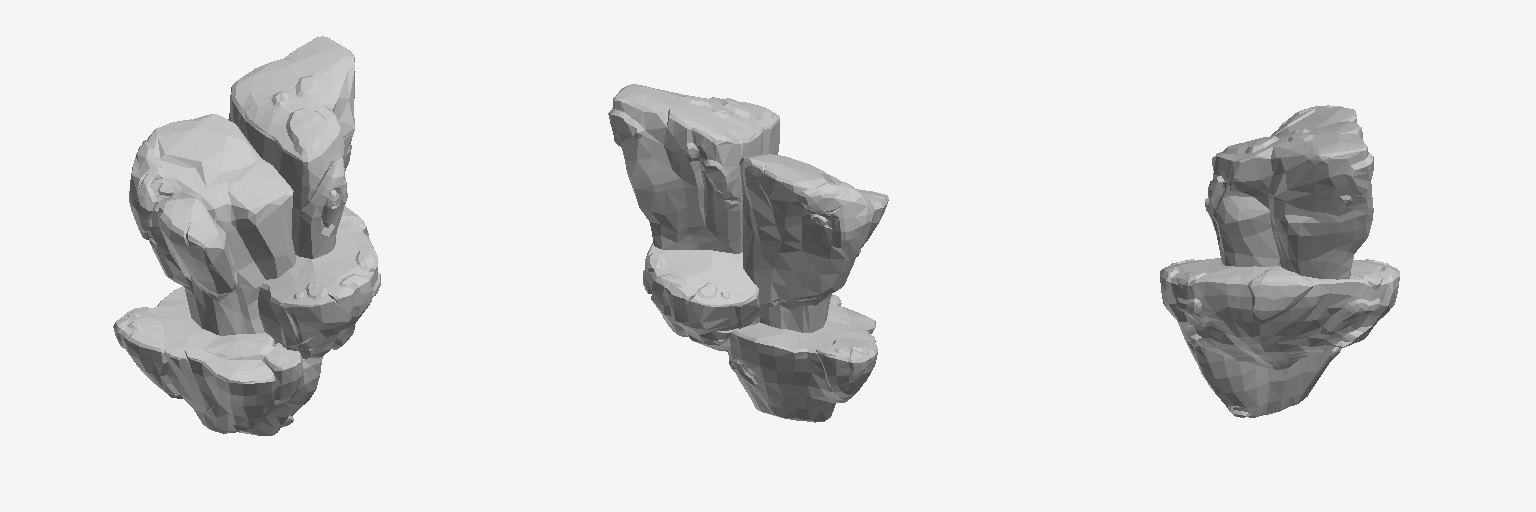
Rendered from Boulder1OBJ.obj.
3 renders of one model, left to right at view 1: azimuth 30°, elevation 25°; view 2: azimuth 150°, elevation 25°; view 3: azimuth 270°, elevation 25°, orthographic.
Parts seen in each view (by area): view 1: node_id244_mesh_id245, node_id246_mesh_id247, node_id248_mesh_id249, node_id250_mesh_id251; view 2: node_id246_mesh_id247, node_id244_mesh_id245, node_id248_mesh_id249, node_id250_mesh_id251; view 3: node_id246_mesh_id247, node_id250_mesh_id251, node_id248_mesh_id249, node_id244_mesh_id245.
Part boxes in pixels (x1,y1,x2,y2): node_id244_mesh_id245: (129,114,295,335); node_id246_mesh_id247: (228,36,354,258); node_id248_mesh_id249: (113,286,322,435); node_id250_mesh_id251: (258,206,380,359); node_id246_mesh_id247: (608,84,779,253); node_id244_mesh_id245: (739,154,888,332); node_id248_mesh_id249: (728,294,877,422); node_id250_mesh_id251: (643,243,763,351); node_id246_mesh_id247: (1205,121,1373,279); node_id250_mesh_id251: (1160,258,1399,369); node_id248_mesh_id249: (1184,338,1341,417); node_id244_mesh_id245: (1212,105,1356,170).
Size of the model in its own units: 0.4702 by 0.6057 by 0.4067.